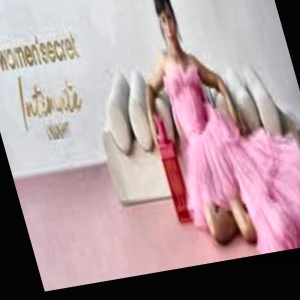women_secret: (62, 4, 86, 45)
